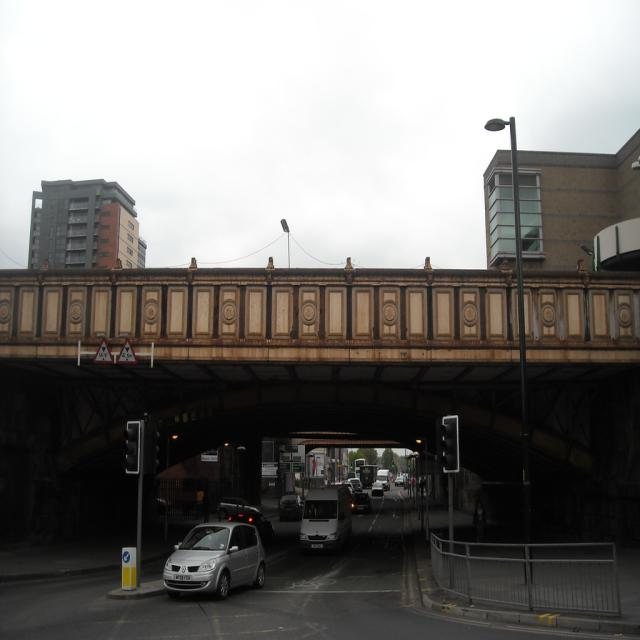car: (158, 514, 266, 606)
